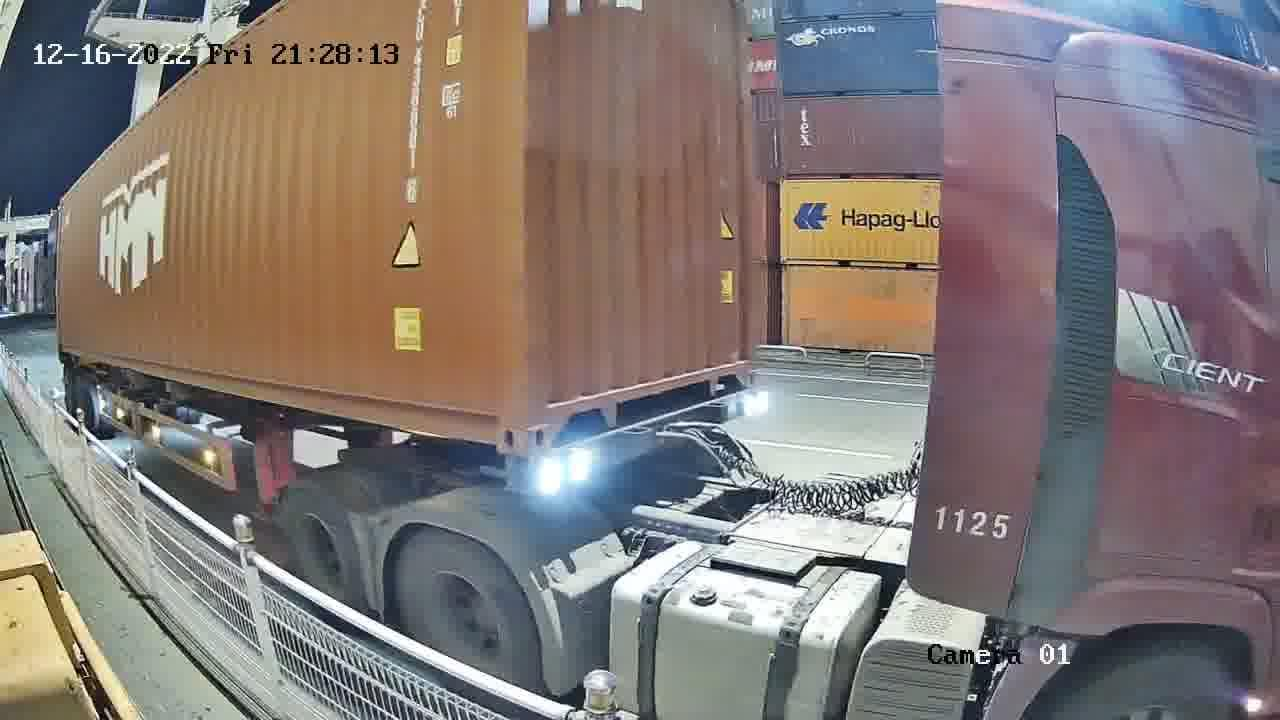Chassis: (534, 385, 767, 491)
Cone: (500, 456, 527, 490)
Hole_L: (527, 380, 579, 462)
Hole_R: (457, 378, 526, 459)
Tire: (397, 530, 538, 688), (272, 487, 365, 606)
